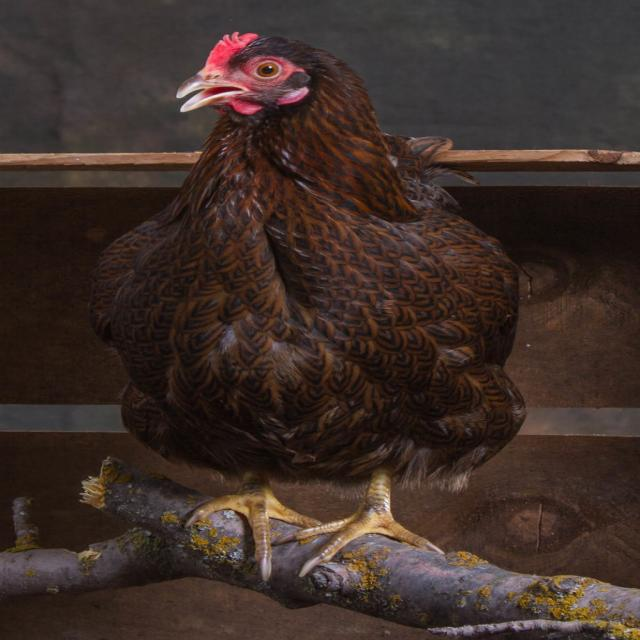Chicken: (86, 32, 528, 581)
